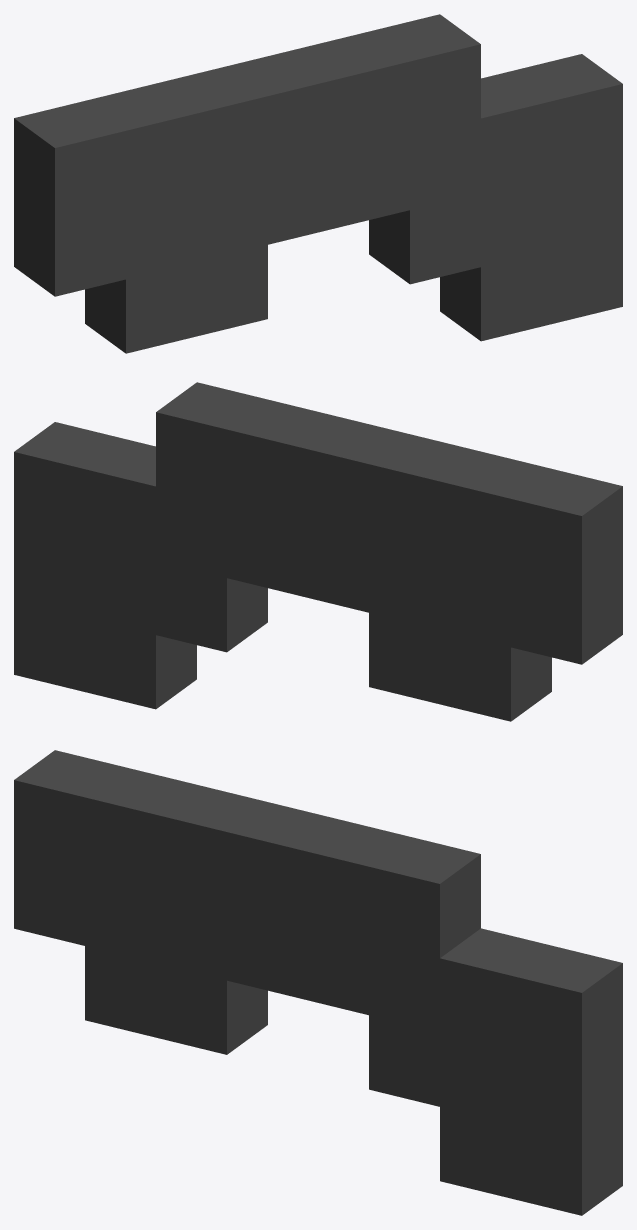
The model's file is Shootgun.fbx.
3 views of the same model, one above another, from view 1: azimuth 30°, elevation 25°; view 2: azimuth 150°, elevation 25°; view 3: azimuth 330°, elevation 25° (orthographic).
Parts seen in each view (by area): view 1: Untitled; view 2: Untitled; view 3: Untitled.
Part boxes in pixels (x1,y1,x2,y2): Untitled: (14,14,622,353); Untitled: (14,382,622,721); Untitled: (14,750,622,1215).
Bounding box in the file's own units: 8000 × 4000 × 1000.
